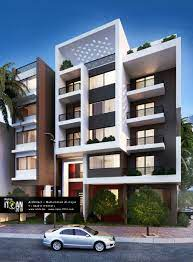Building House: (5, 26, 186, 223)
